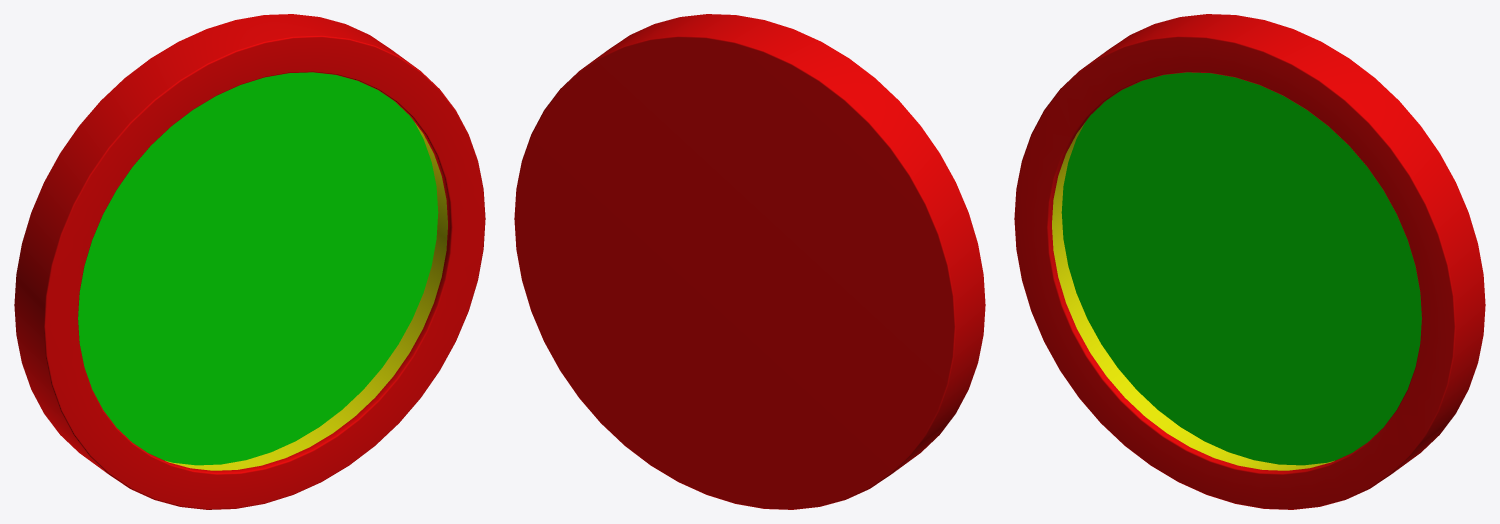
The model's file is RoboTHOR_clocks_grp.fbx.
3 renders of one model, left to right at view 1: azimuth 30°, elevation 25°; view 2: azimuth 150°, elevation 25°; view 3: azimuth 330°, elevation 25°, orthographic.
Parts seen in each view (by area): view 1: thorkea_clock_1; view 2: thorkea_clock_1; view 3: thorkea_clock_1.
Boxes of the visible parts, x1=… form: thorkea_clock_1: x1=14, y1=14, x2=485, y2=509; thorkea_clock_1: x1=514, y1=14, x2=985, y2=509; thorkea_clock_1: x1=1014, y1=14, x2=1485, y2=509.
Size of the model in its own units: 33.02 by 33.02 by 3.98.
